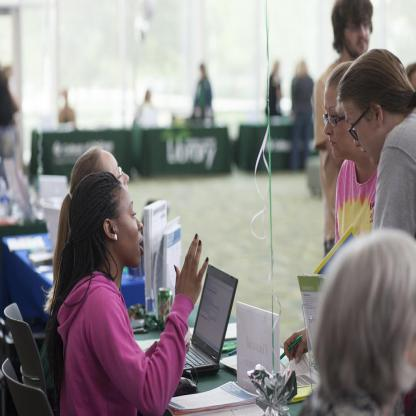board: (176, 264, 237, 391), (158, 286, 172, 334)
